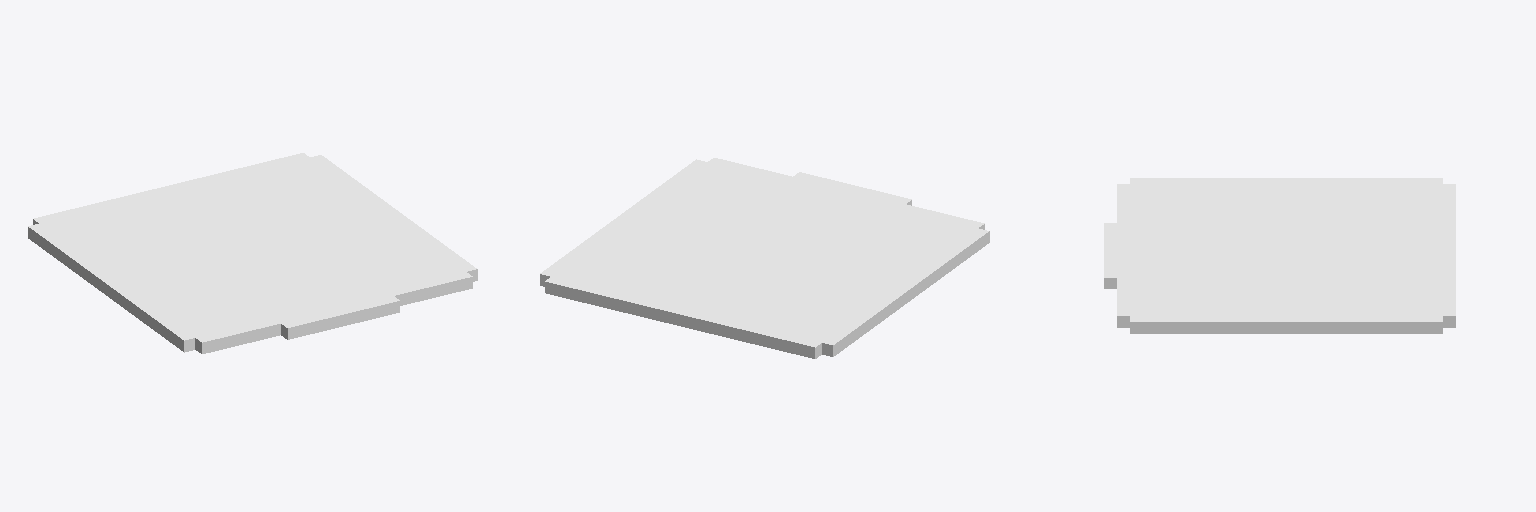
File: SmallBuilding02-4.obj
3 views of the same model, side by side, from view 1: azimuth 30°, elevation 25°; view 2: azimuth 150°, elevation 25°; view 3: azimuth 270°, elevation 25° (orthographic).
Parts seen in each view (by area): view 1: object 1; view 2: object 1; view 3: object 1.
Part boxes in pixels (bbox=[...]): object 1: bbox=[28, 153, 477, 353]; object 1: bbox=[540, 158, 989, 358]; object 1: bbox=[1104, 178, 1455, 333].
Bounding box in the file's own units: 2.6 × 0.1 × 2.7.